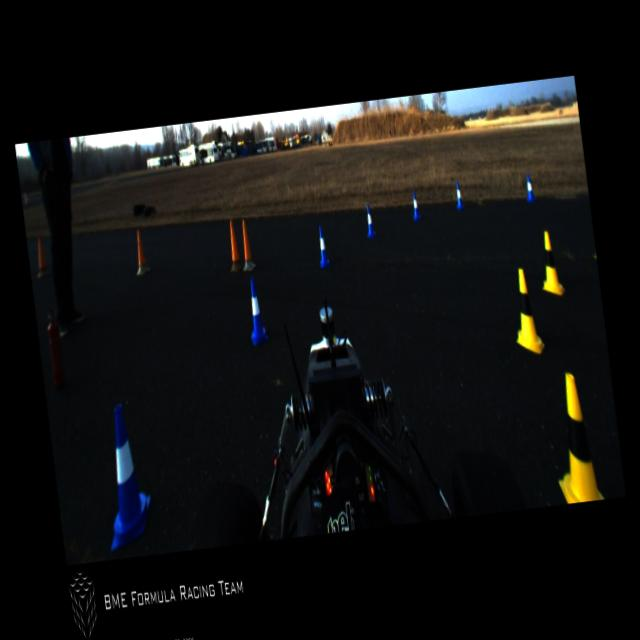blue_cone: (94, 400, 156, 550), (244, 276, 268, 345), (315, 223, 330, 268), (362, 204, 377, 238), (523, 172, 536, 202), (409, 188, 421, 220), (453, 180, 465, 210)
unknown_cone: (224, 218, 244, 273), (236, 218, 256, 272), (131, 228, 151, 275), (31, 235, 50, 278)
yellow_cone: (545, 369, 604, 504), (506, 266, 546, 356), (536, 229, 566, 297)
